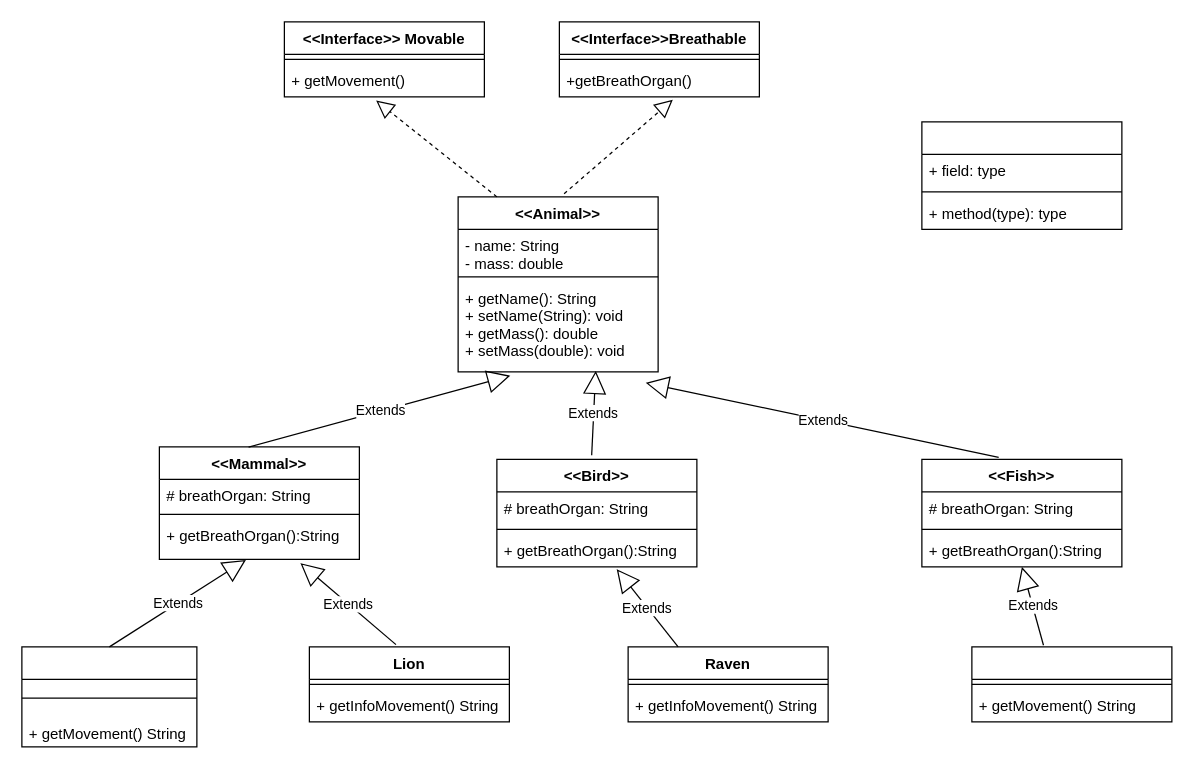
Some shapes in this 1194 by 773 pixel diagram are drawn without their labels. The box of each missing label's shape, as (x1, y1, x2, y2) in pixels:
Human: (21, 646, 197, 747)
Main: (921, 121, 1122, 229)
Piranha: (971, 646, 1172, 722)
